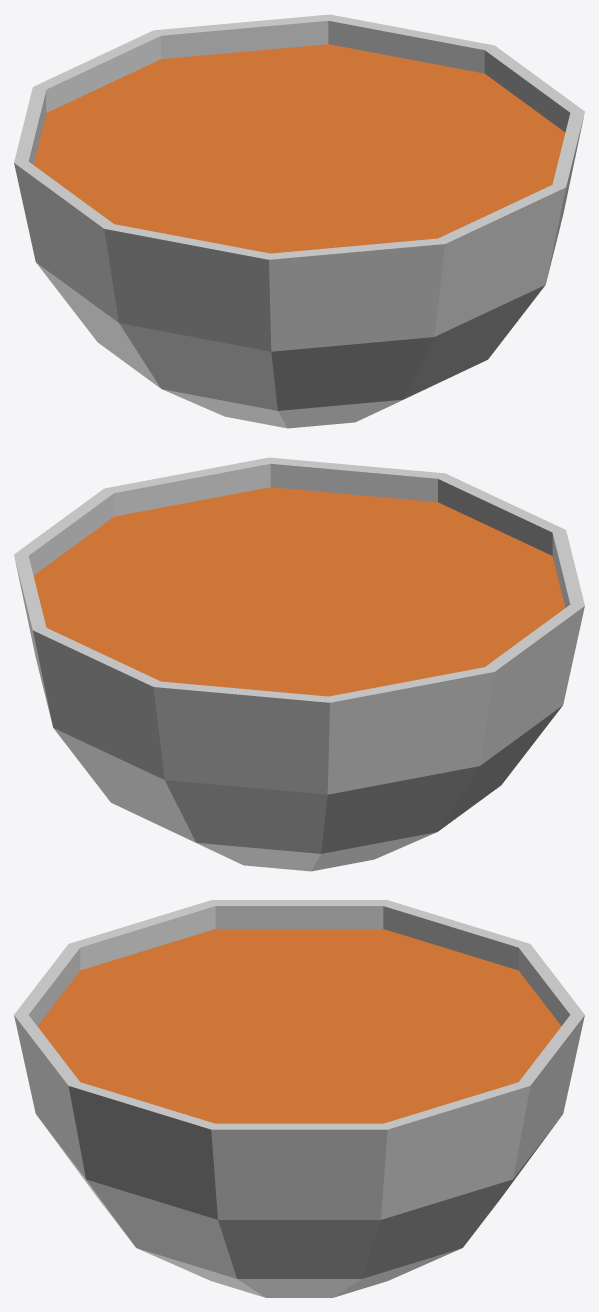
Rendered from Boldetrucs.glb.
The picture shows the model from 3 angles, top to bottom: view 1: azimuth 30°, elevation 25°; view 2: azimuth 150°, elevation 25°; view 3: azimuth 270°, elevation 25°; orthographic projection. The views are drawn at different scales.
Parts seen in each view (by area): view 1: Sphère; view 2: Sphère; view 3: Sphère.
Boxes of the visible parts, x1,y1,x2,y2 form: Sphère: (14,14,584,428); Sphère: (14,457,584,871); Sphère: (14,900,584,1297).
Size of the model in its own units: 1.9 by 1 by 2.
